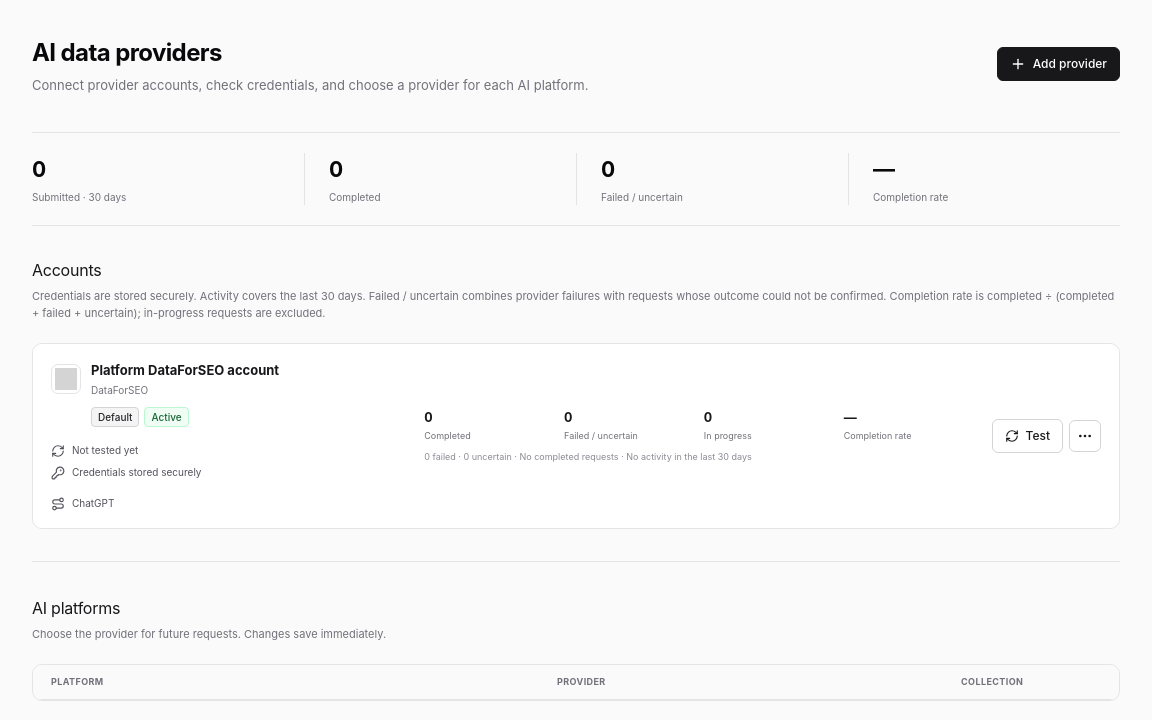
operator provider account names › renames an account from the actions menu and confirms the saved name
Press Enter in the button named "More actions for Platform DataForSEO account", box [1069, 420, 1101, 452]
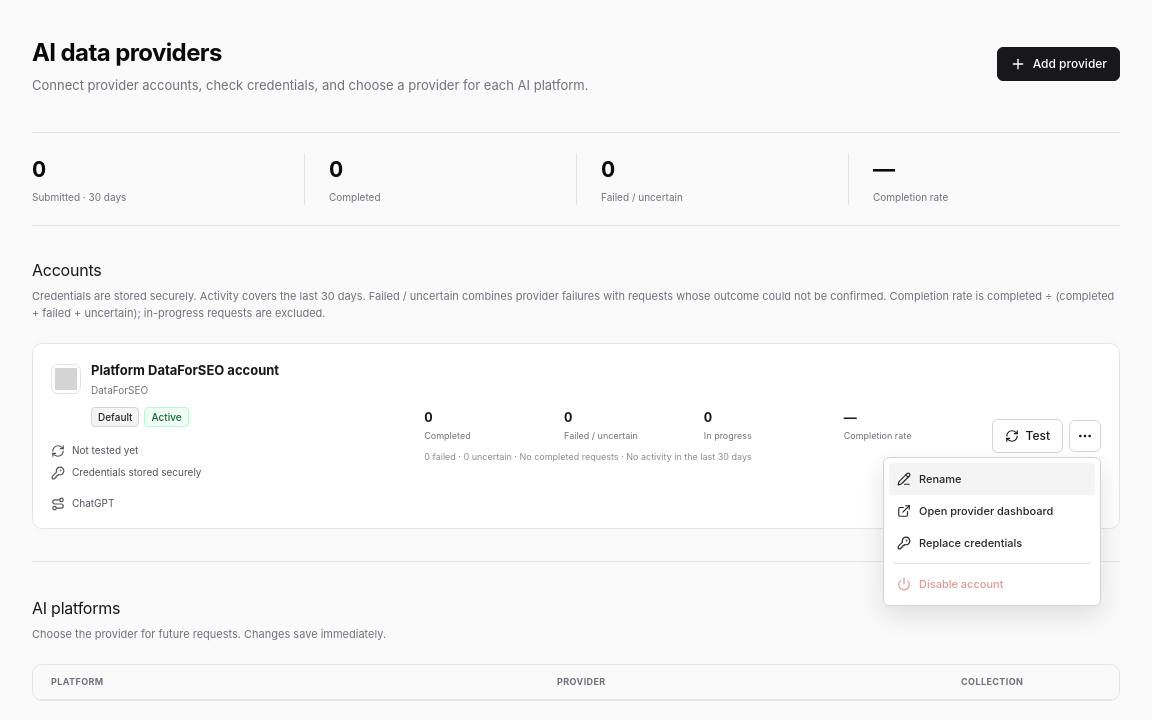
Click the menu item "Rename" at {"x": 992, "y": 479}, box [889, 463, 1095, 495]
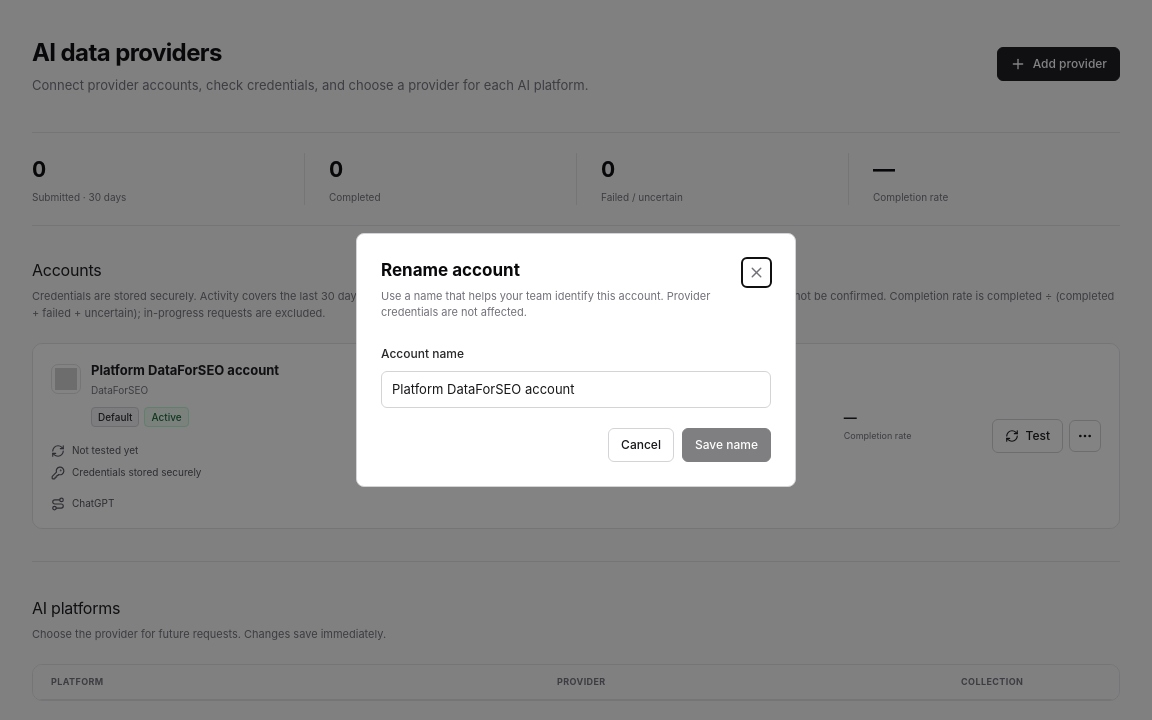
Expected: the field named "Account name" holds "Platform DataForSEO account"
Expected: the button "Save name" is disabled, [682, 428, 771, 462]
Replace the text in the field named "Account name" with "Primary search account" at {"x": 576, "y": 389}, box [381, 370, 771, 408]
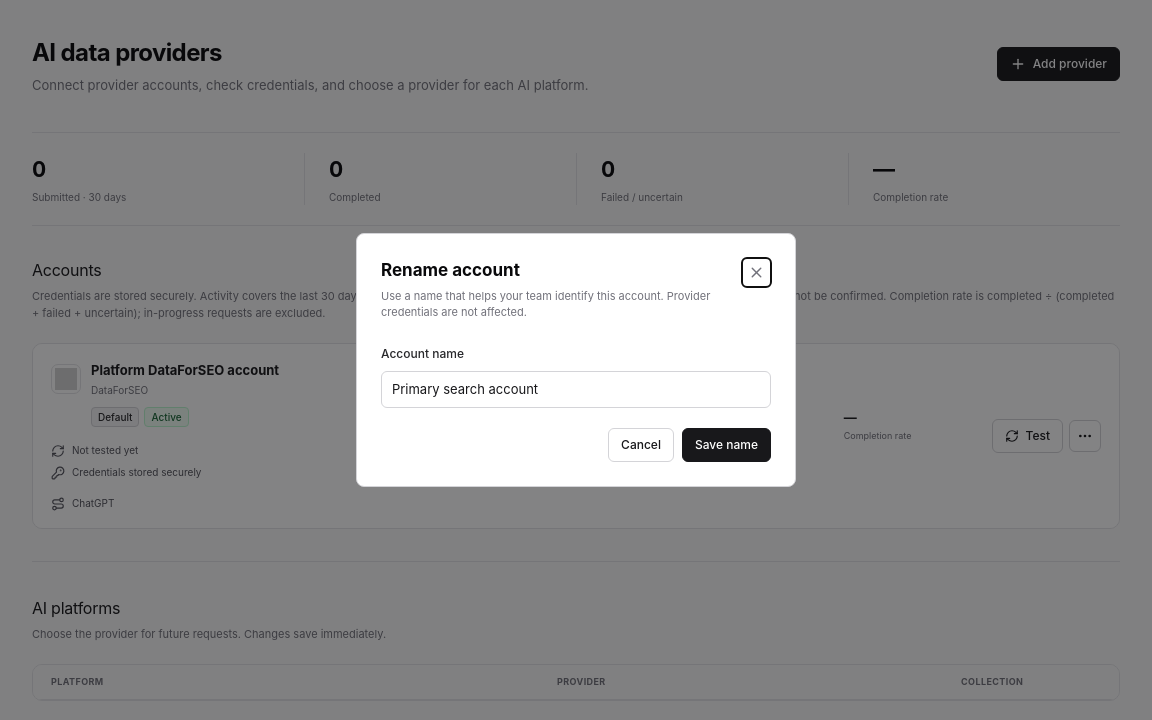
Click the button "Save name" at {"x": 726, "y": 445}, box [682, 428, 771, 462]
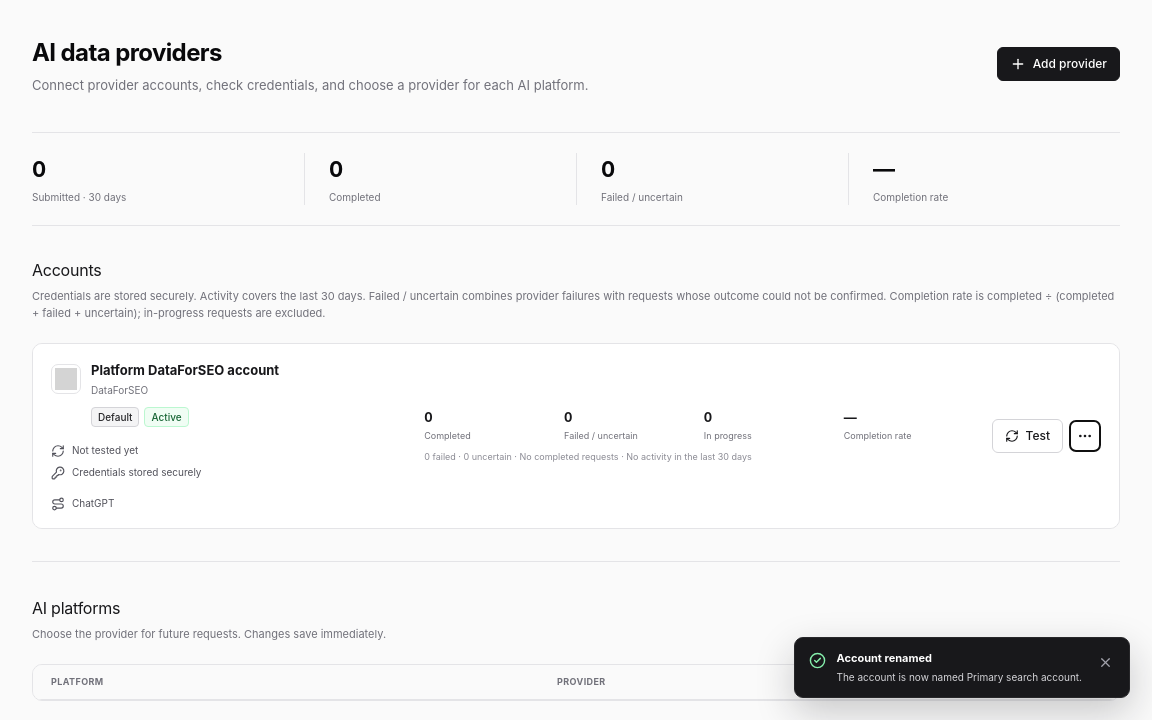
Expected: the text "Account renamed" shows "The account is now named Primary search account.", [836, 670, 1082, 682]
